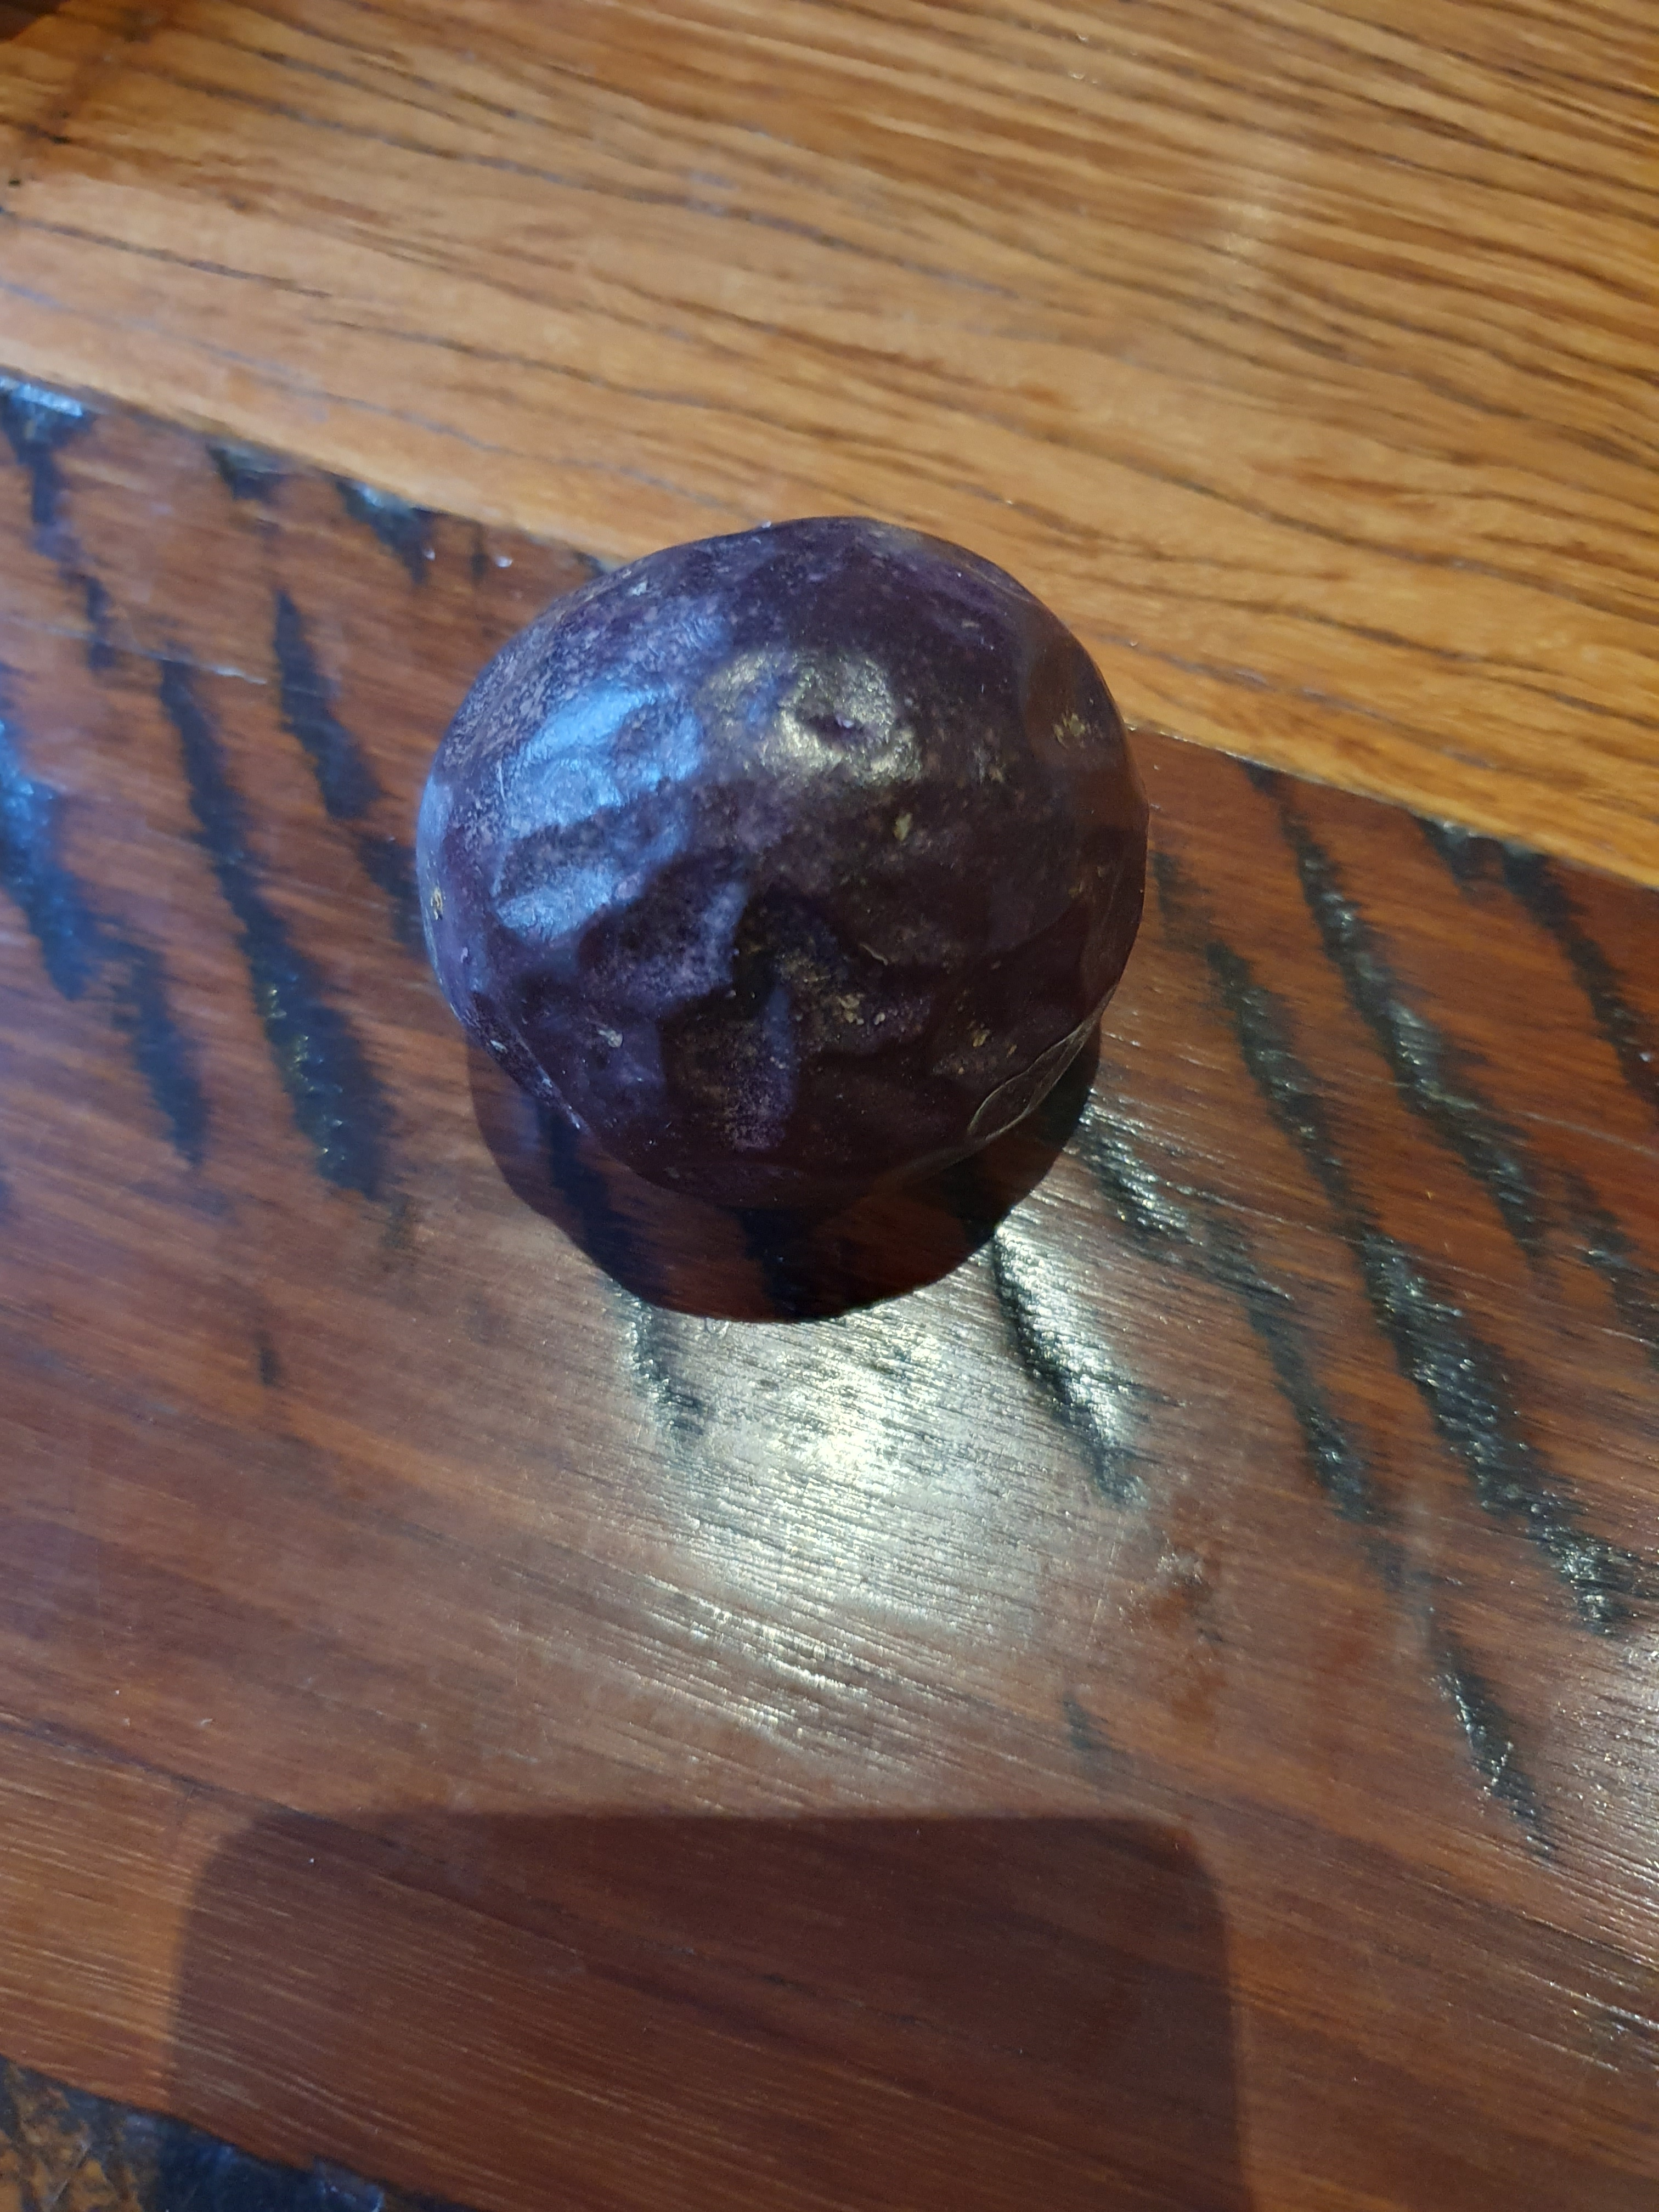passionfruit: (373, 467, 1183, 1240)
